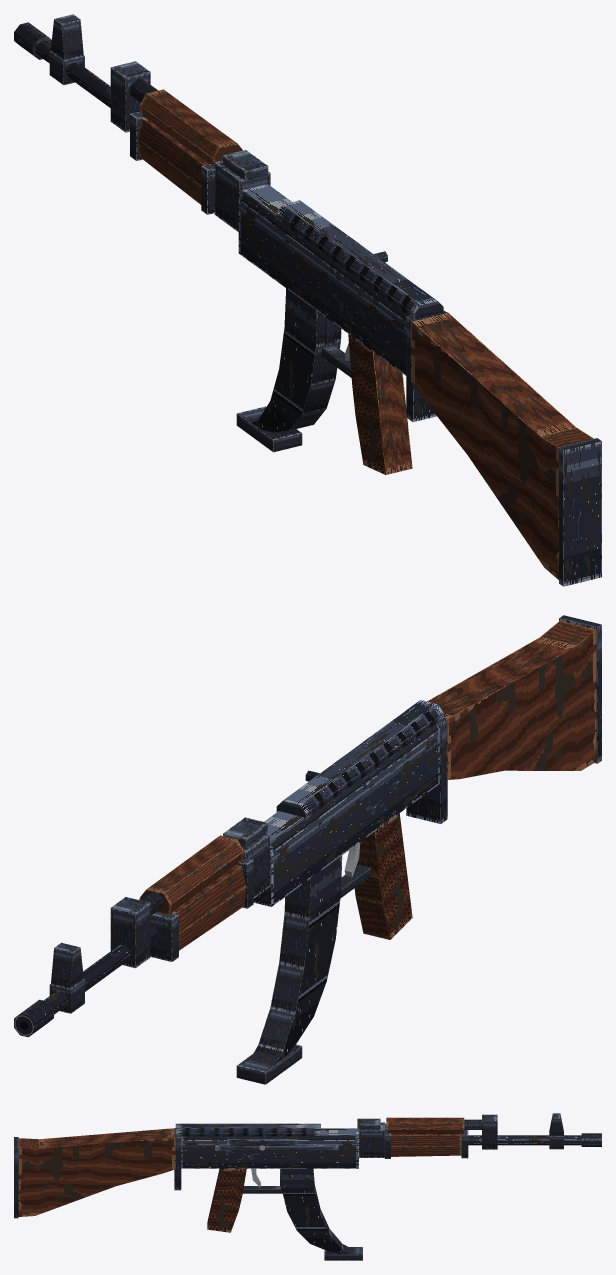
Rendered from rifle_ak47_base.glb.
3 renders of one model, top to bottom at view 1: azimuth 30°, elevation 25°; view 2: azimuth 150°, elevation 25°; view 3: azimuth 270°, elevation 25°, orthographic. The views are drawn at different scales.
Visible parts, largest first — view 1: stock, receiver, magazine, handguard; view 2: receiver, stock, magazine, handguard; view 3: receiver, stock, handguard, magazine, bolt_carrier.
Boxes of the visible parts, box(x1,y1,x2,y2) form: stock: box(348, 312, 601, 586); receiver: box(14, 14, 447, 421); magazine: box(236, 288, 341, 452); handguard: box(130, 89, 242, 214); receiver: box(14, 700, 447, 1037); stock: box(354, 615, 601, 939); magazine: box(236, 855, 342, 1084); handguard: box(139, 835, 253, 961); receiver: box(174, 1113, 601, 1193); stock: box(14, 1128, 246, 1232); handguard: box(384, 1117, 468, 1158); magazine: box(280, 1168, 362, 1260); bolt_carrier: box(227, 1139, 297, 1150).
Size of the model in its own units: 0.064 by 0.266 by 1.
2 materials, 2 textured.
